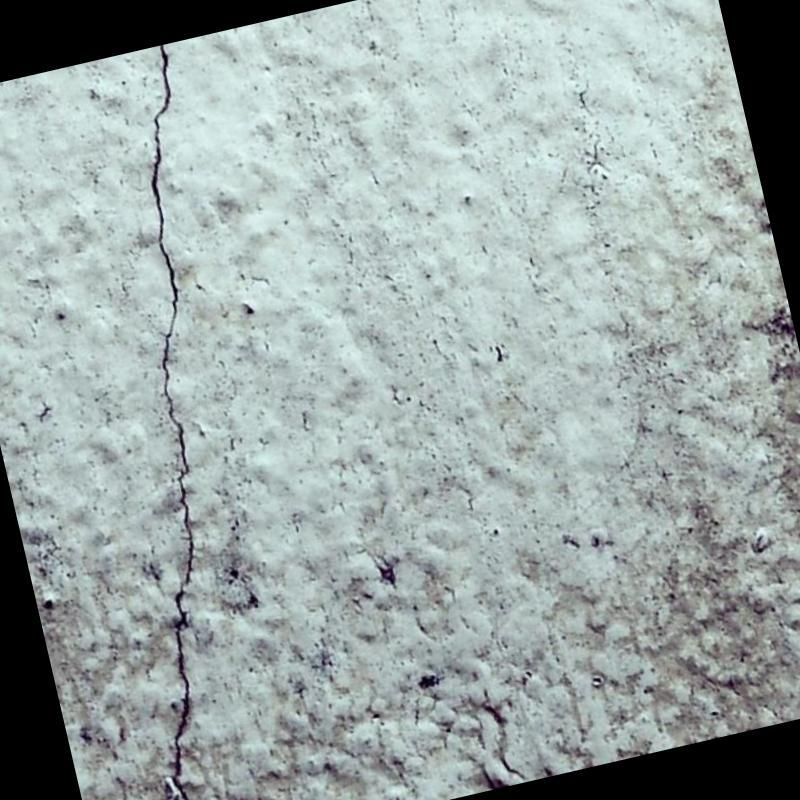pothole: (151, 44, 194, 800)
